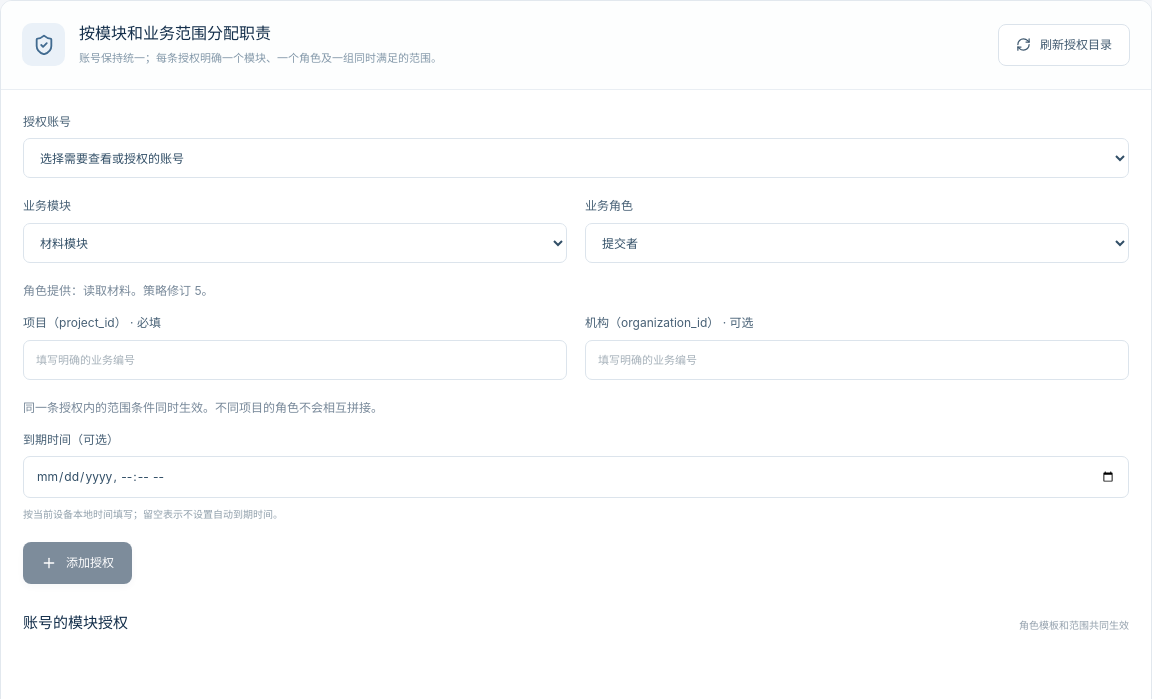
Test: 模块范围授权管理 › 按模块声明呈现角色和范围并提交完整、带修订号的授权
Select "用户甲（alpha）" in the dropdown labelled "授权账号" at (576, 158), box [23, 138, 1129, 178]
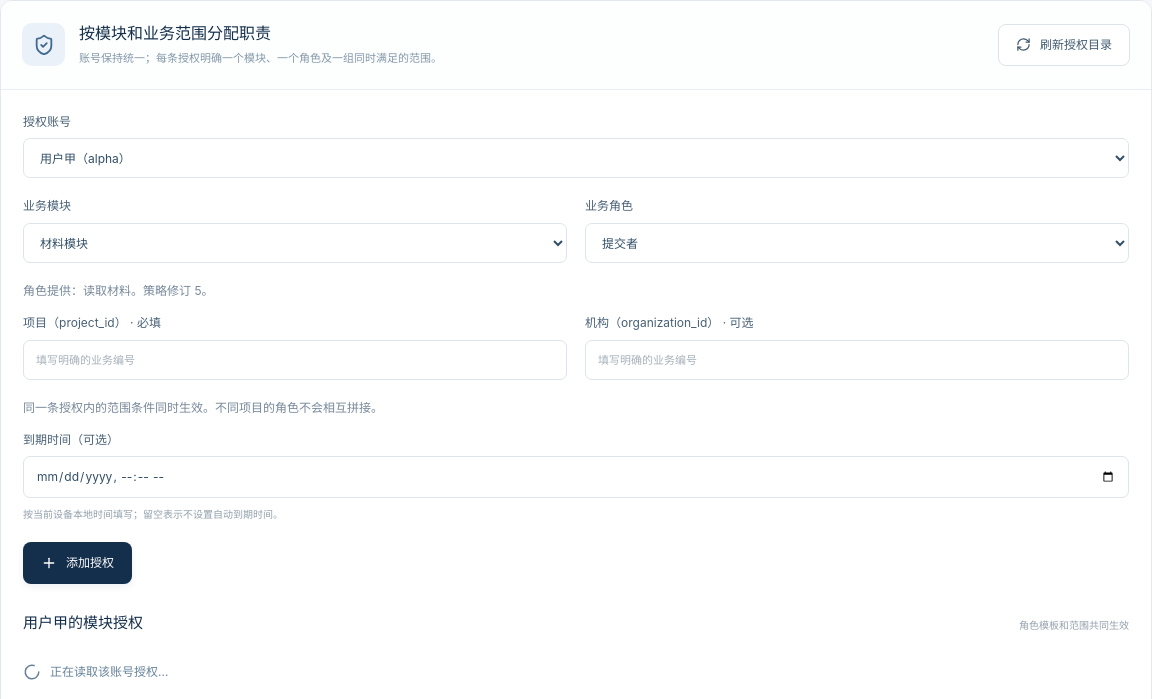
Select "审核者" in the dropdown labelled "业务角色" at (857, 243), box [585, 223, 1129, 263]
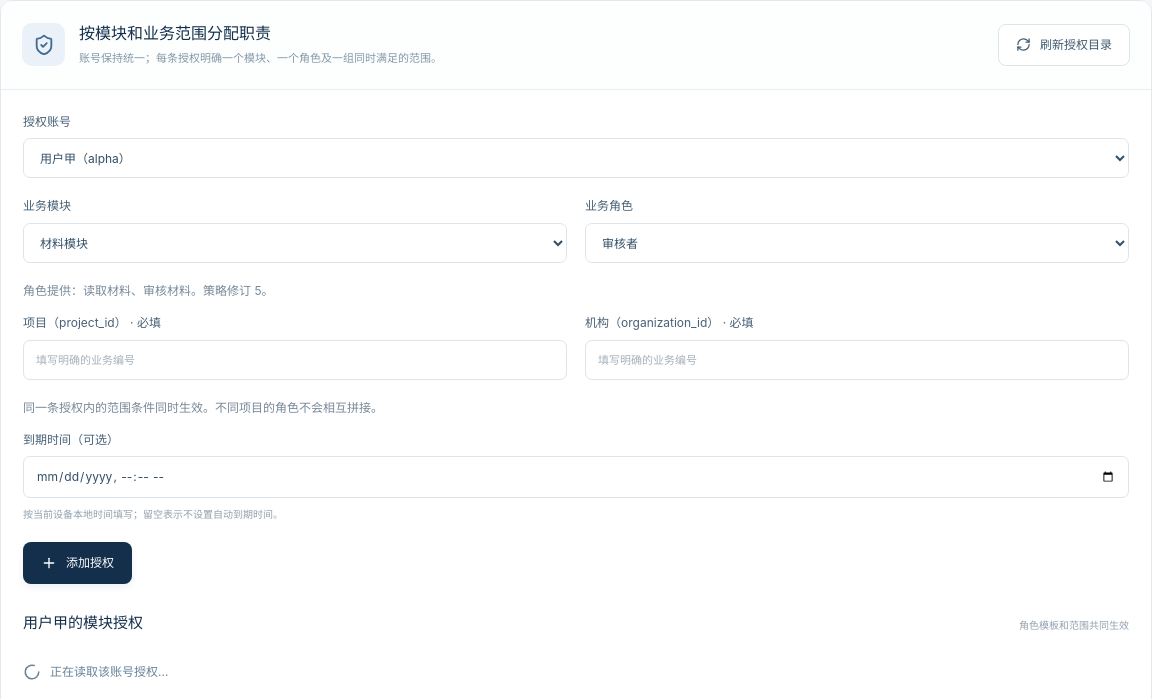
Type " project-p " into the field named "范围 project_id" at (295, 360), box [23, 340, 567, 380]
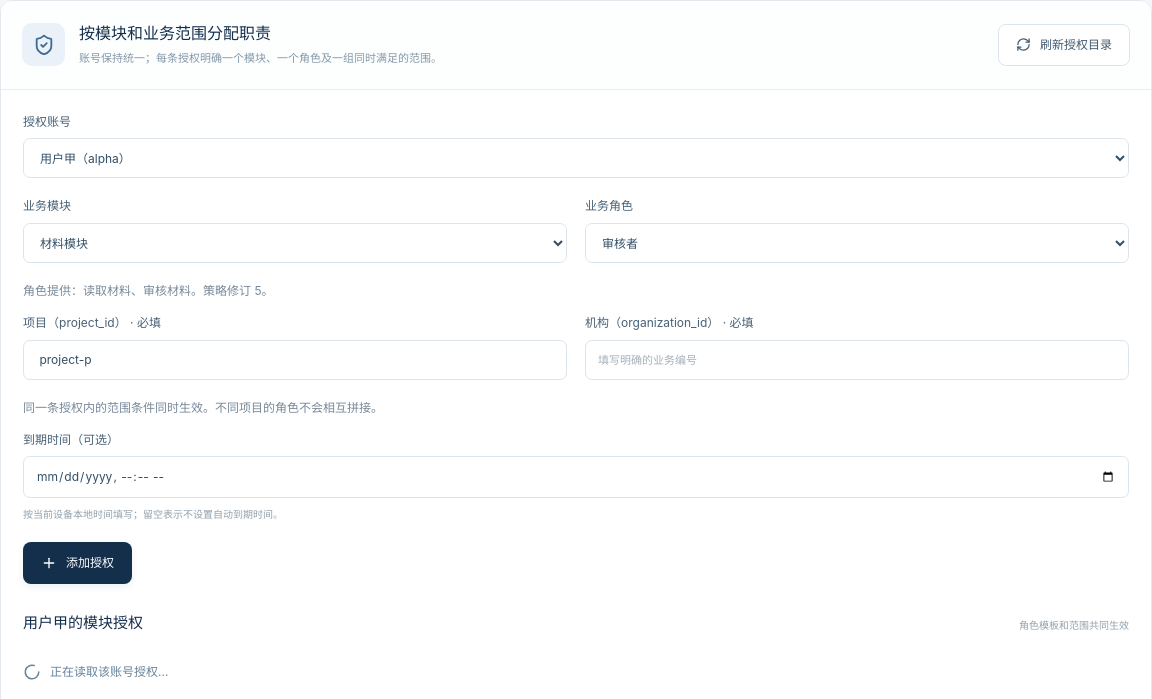
Type "org-receiver" into the field labelled "机构（organization_id） · 必填" at (857, 360), box [585, 340, 1129, 380]
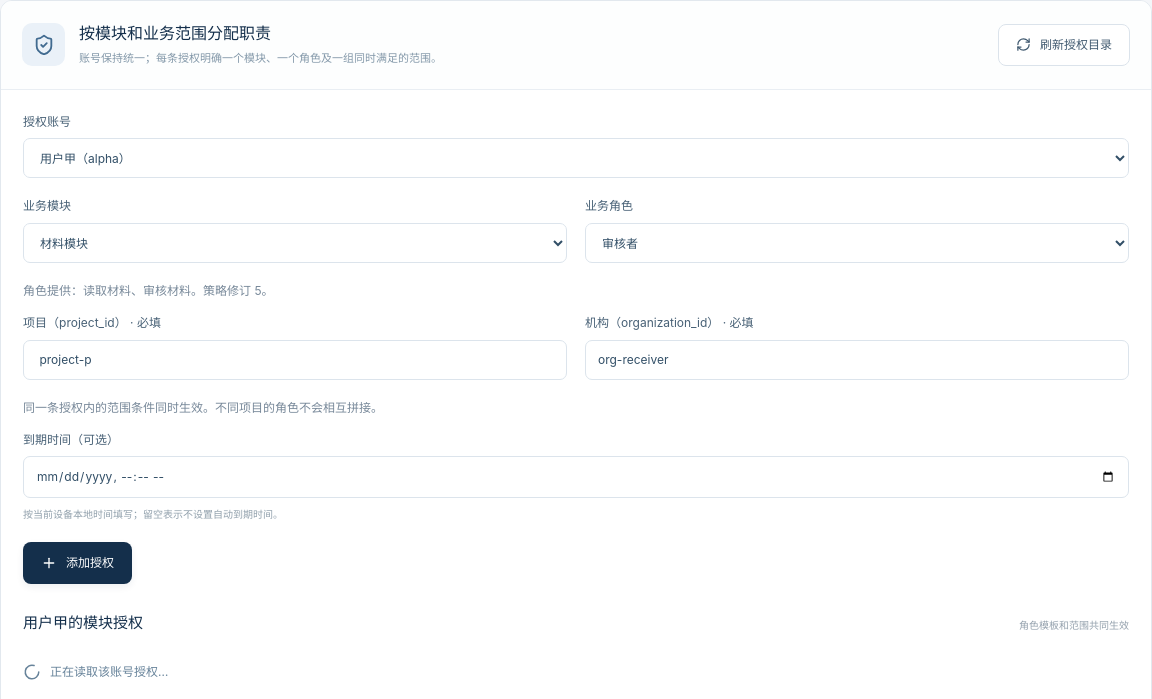
Type "2099-01-02T03:04" into the field labelled "到期时间（可选） 按当前设备本地时间填写；留空表示不设置自动到期时间。" at (576, 477), box [23, 456, 1129, 498]
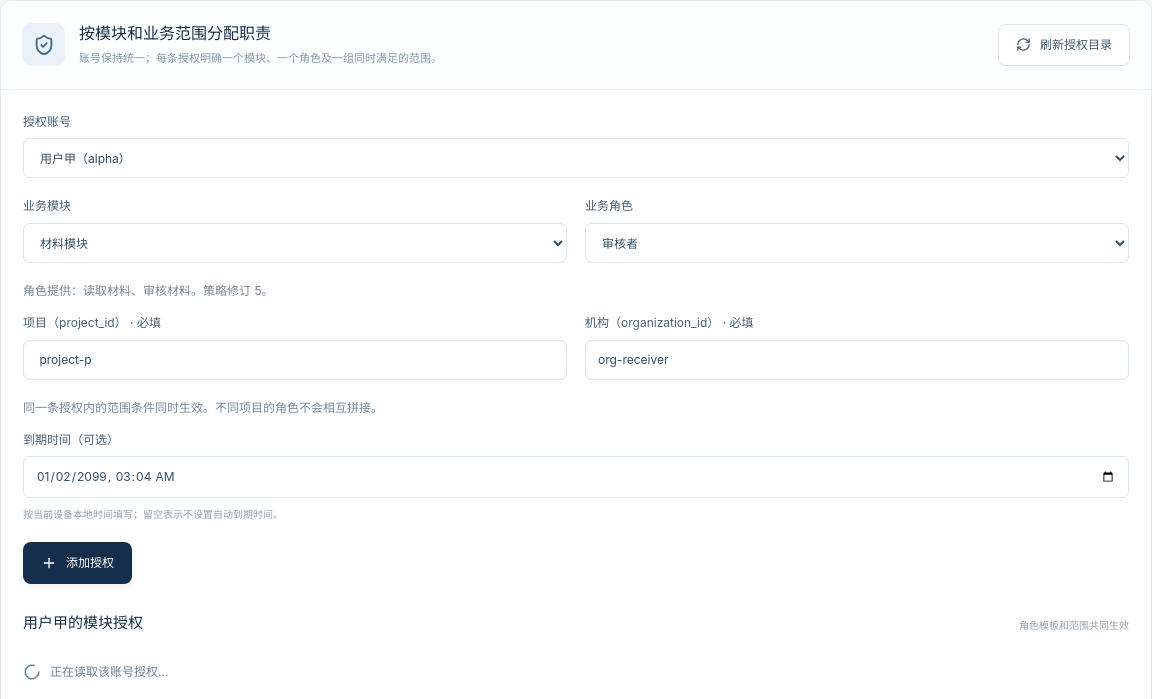
Click the button "添加授权" at (78, 563), box [23, 542, 132, 584]
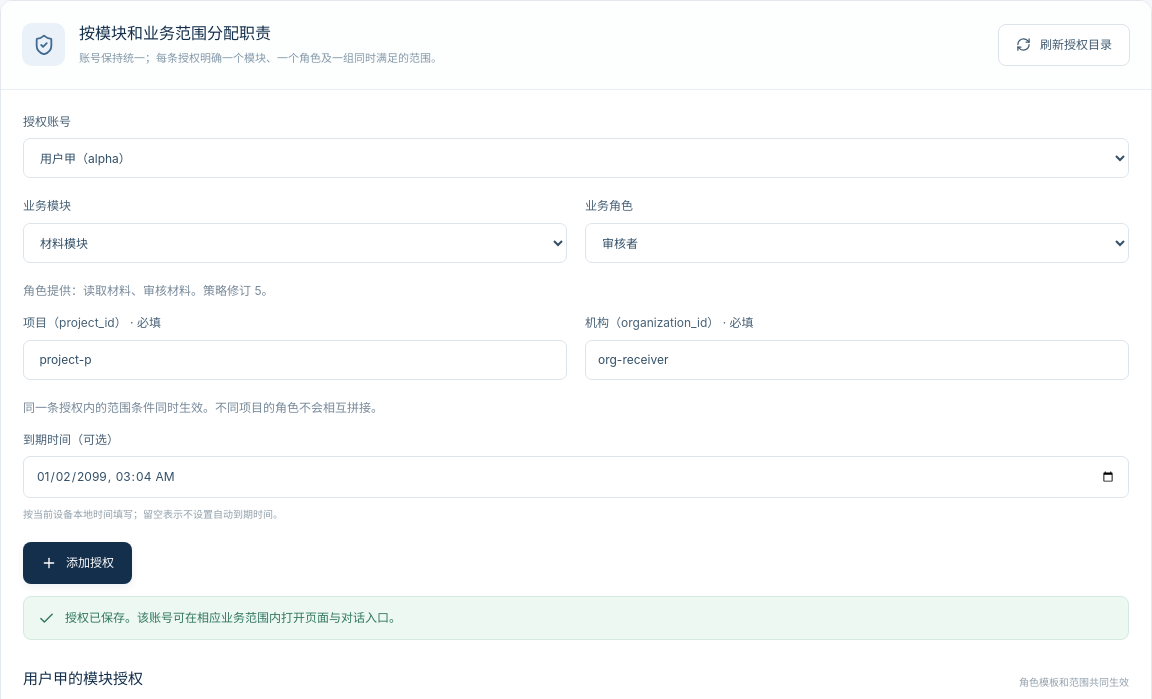
Check: the text "授权已保存。该账号可在相应业务范围内打开页面与对话入口。" is shown, box [65, 610, 401, 625]
